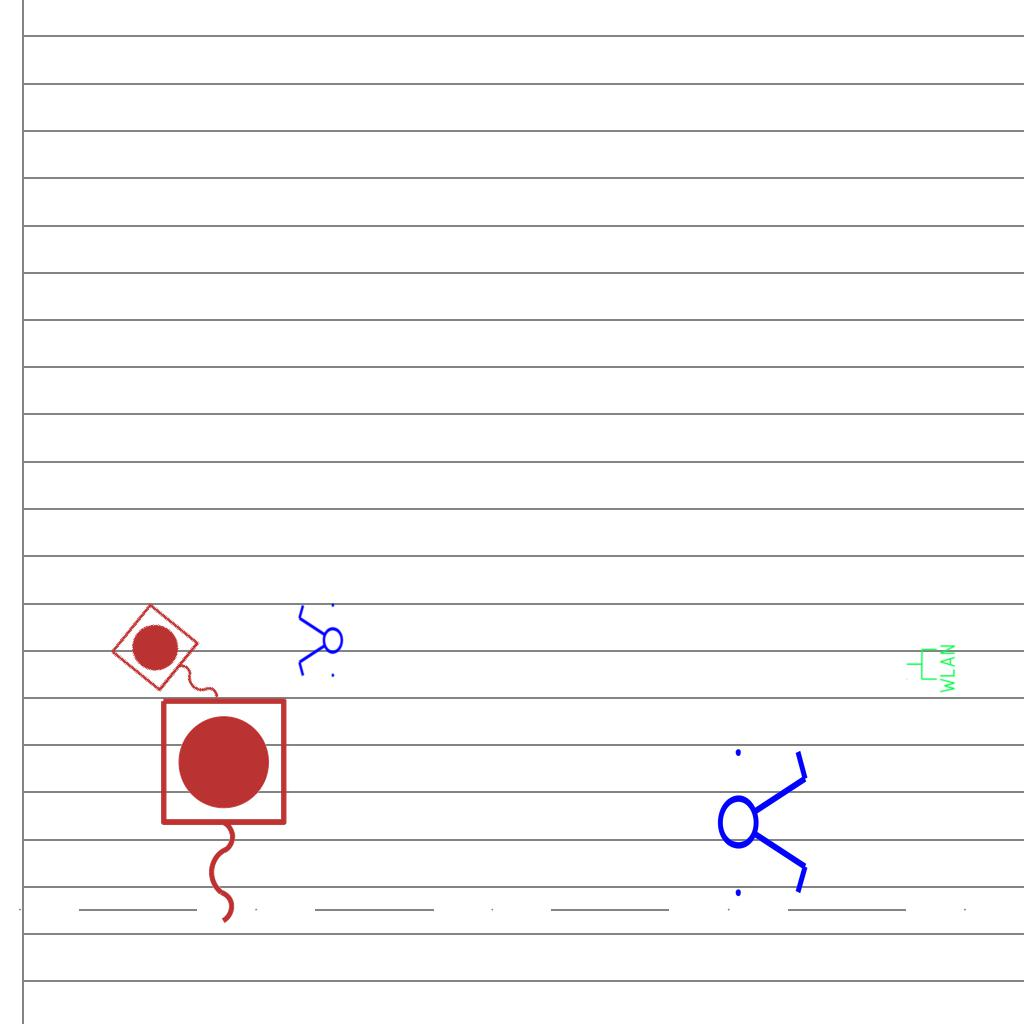Serienschalter: (716, 737, 812, 905), (296, 599, 344, 683)
WLAN: (905, 643, 957, 695)
Zugtaster: (150, 690, 294, 934), (103, 597, 245, 731)
